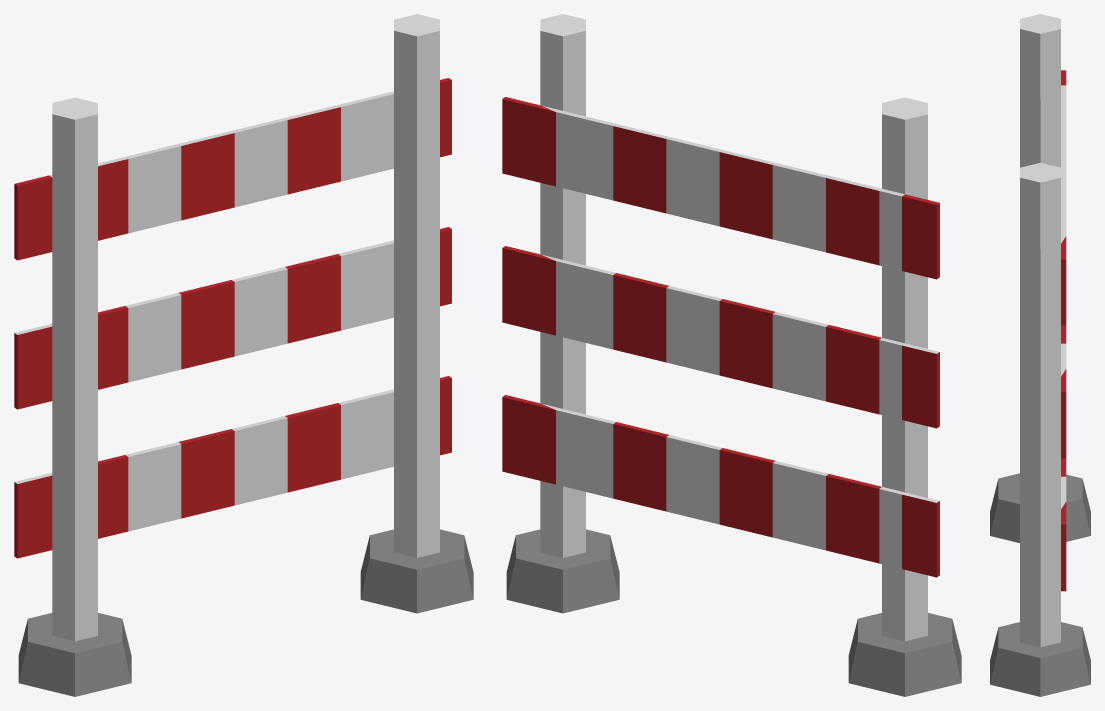
Rendered from Barreira_1_Faixa.fbx.
3 views of the same model, side by side, from view 1: azimuth 30°, elevation 25°; view 2: azimuth 150°, elevation 25°; view 3: azimuth 270°, elevation 25° (orthographic). The views are drawn at different scales.
Parts seen in each view (by area): view 1: Cylinder.001; view 2: Cylinder.001; view 3: Cylinder.001.
Boxes of the visible parts, x1,y1,x2,y2 form: Cylinder.001: (14,14,473,696); Cylinder.001: (502,14,961,696); Cylinder.001: (990,14,1090,696).
Size of the model in its own units: 161 by 34.64 by 190.
